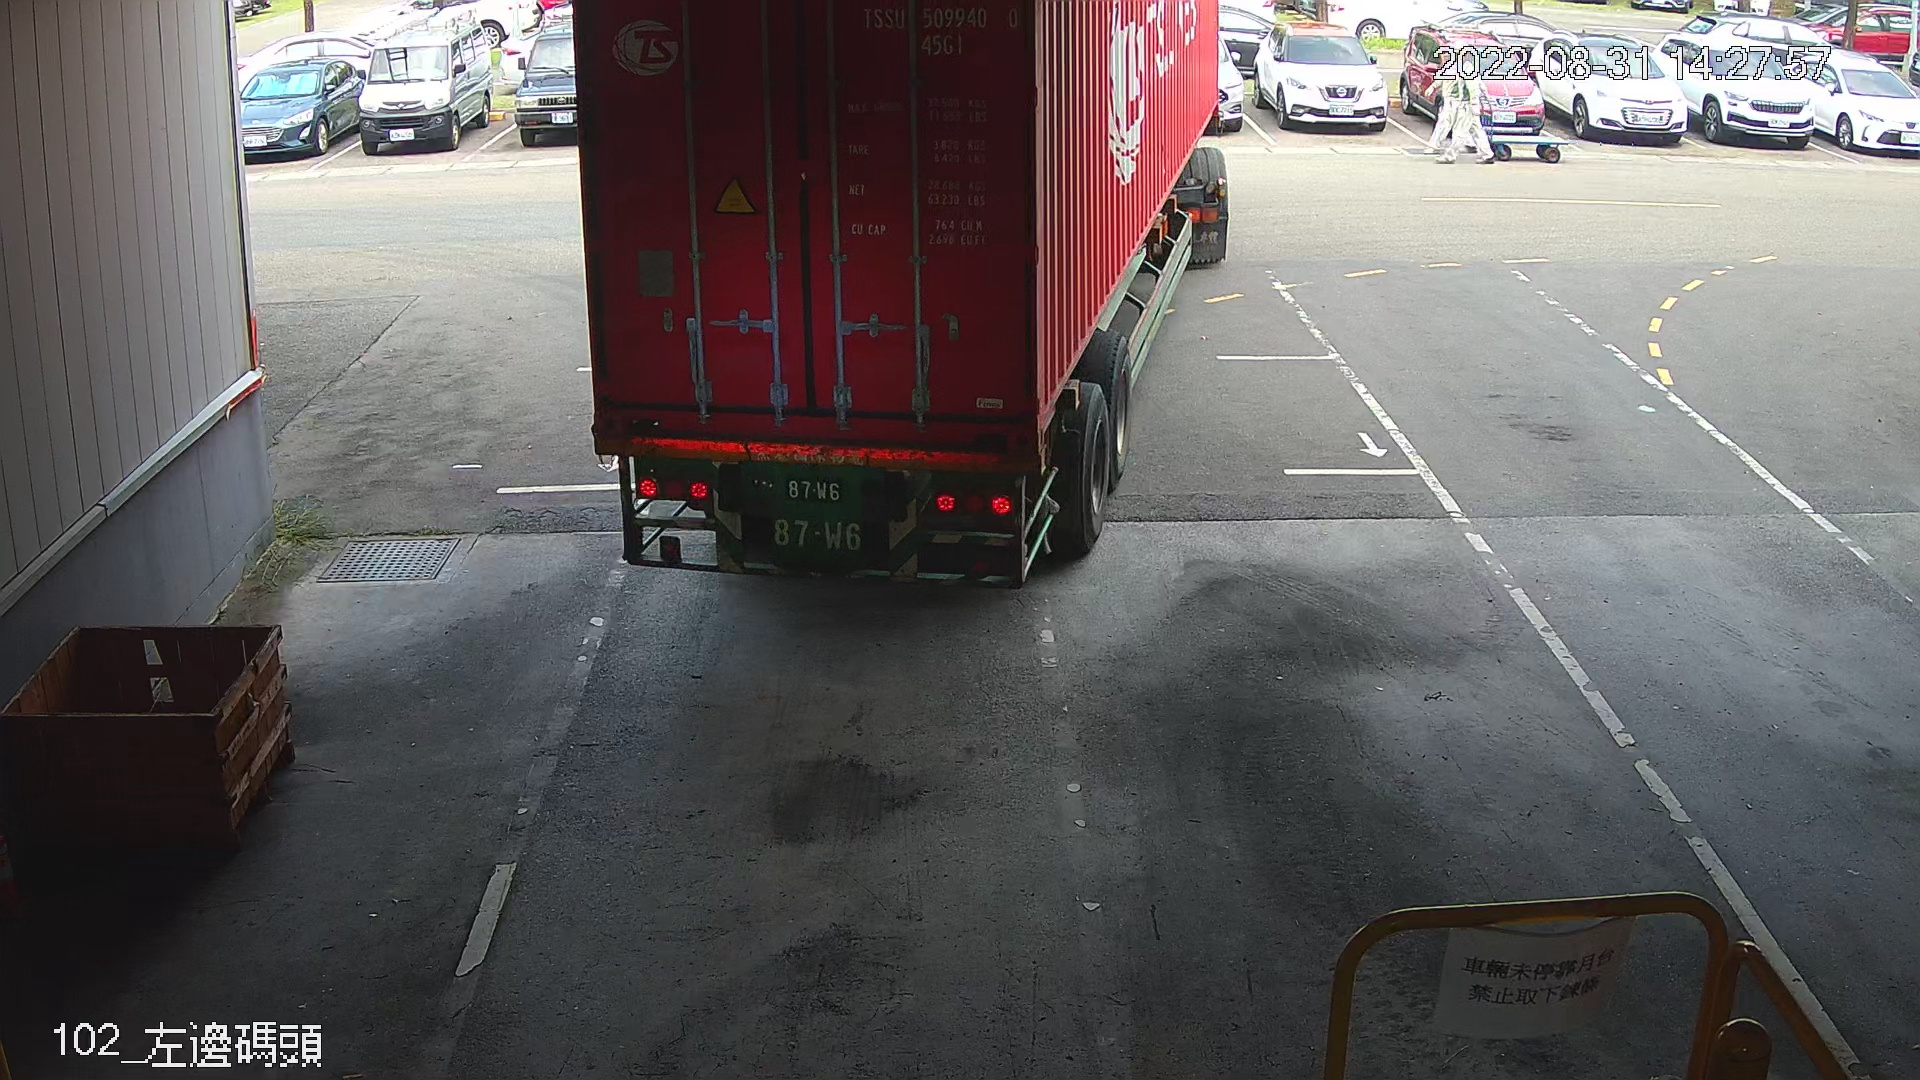container: (858, 3, 1025, 61)
